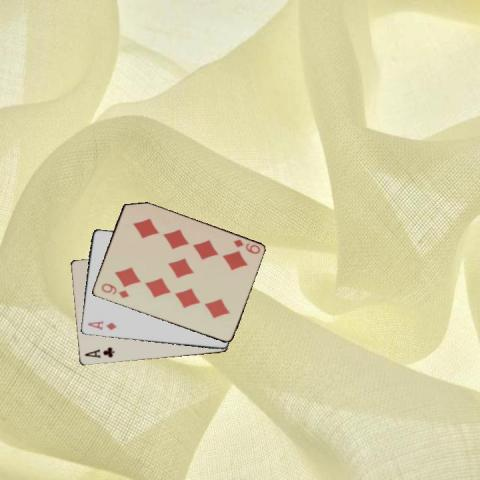9d: (98, 281, 131, 300), (230, 237, 261, 255)
Ac: (82, 345, 115, 359)
Ad: (84, 318, 118, 331)
